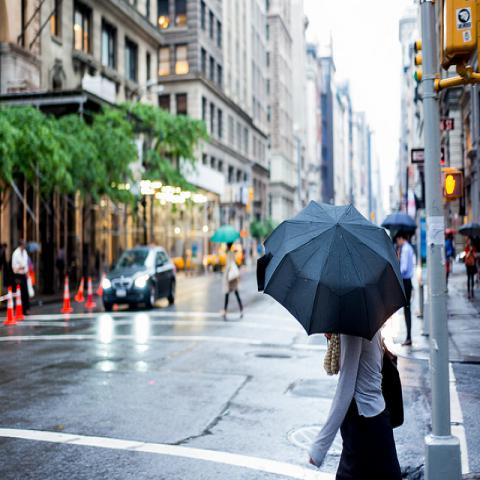car: (102, 246, 177, 311), (202, 243, 244, 275), (171, 248, 203, 272), (246, 235, 258, 257)
